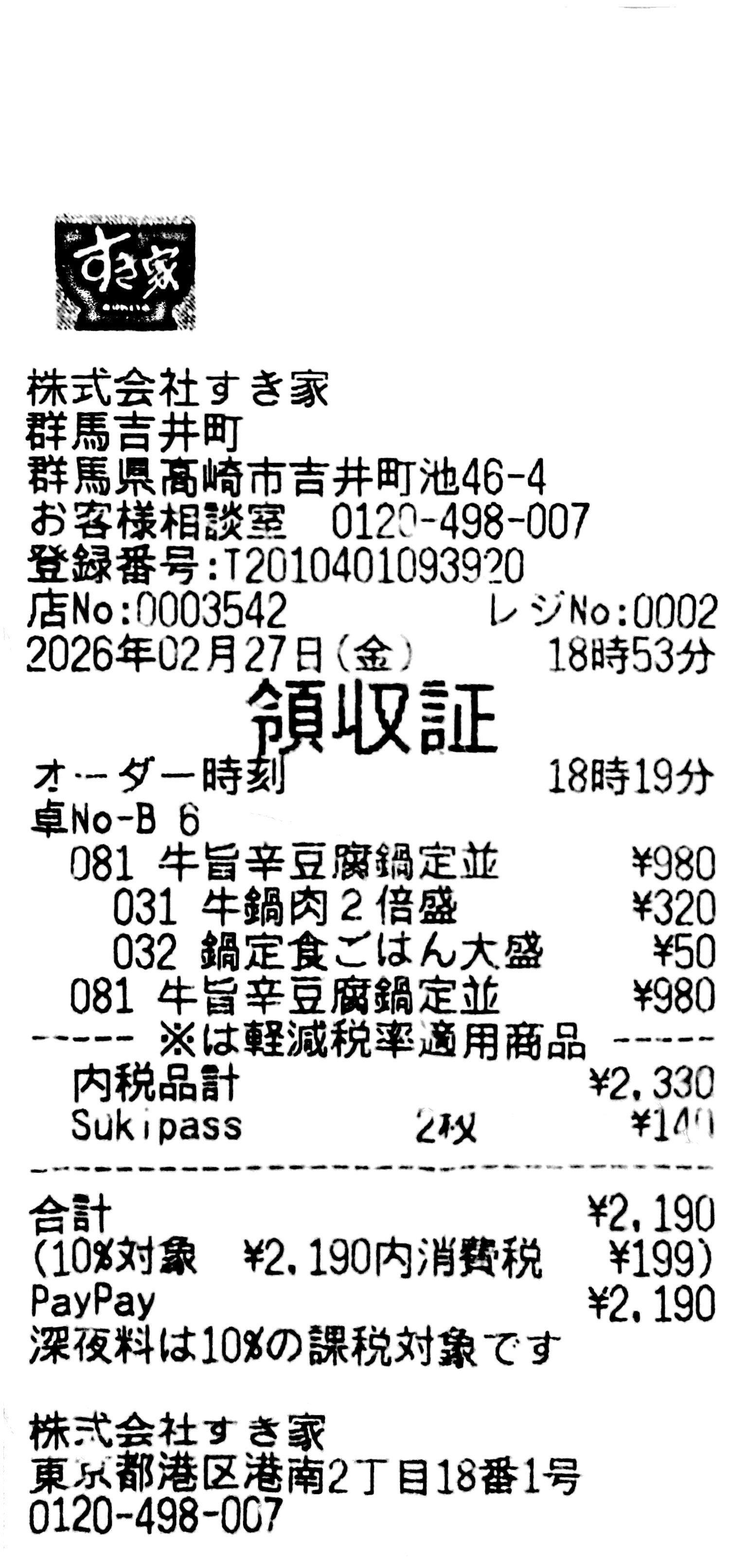Date: (27, 634, 322, 674)
Pay: (28, 1192, 714, 1236)
Shopname: (205, 368, 331, 409)
Telnum: (331, 501, 591, 540)
